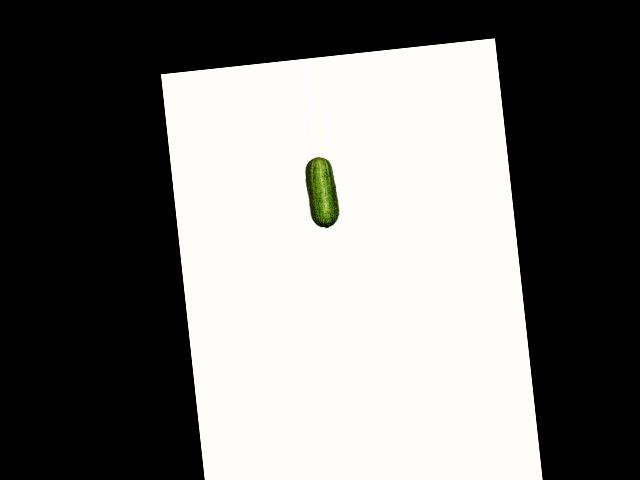cucumber: (303, 156, 340, 230)
